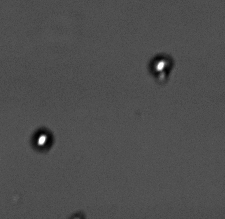Living Cell: (149, 53, 174, 77), (32, 127, 54, 151)
